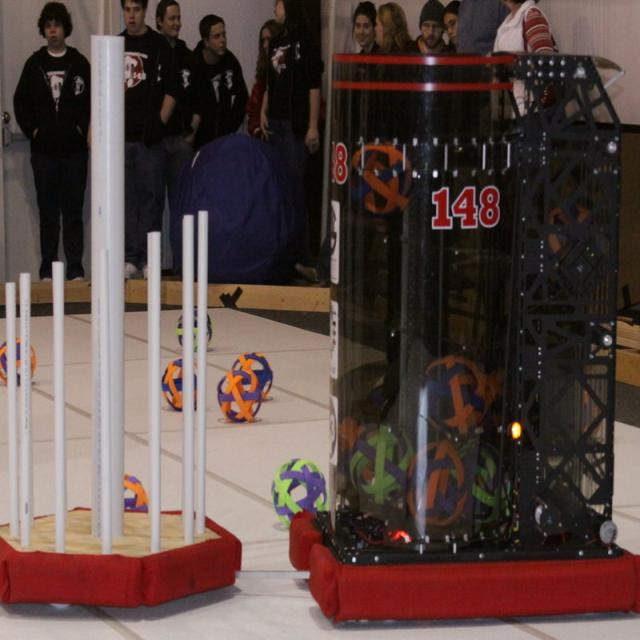robot: (287, 41, 640, 620)
